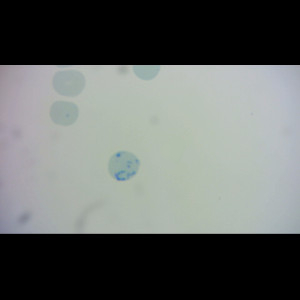aggregate reticulocyte: (107, 150, 141, 182)
erythrocyte: (52, 69, 86, 98)
punctate reticulocyte: (48, 99, 81, 127)
